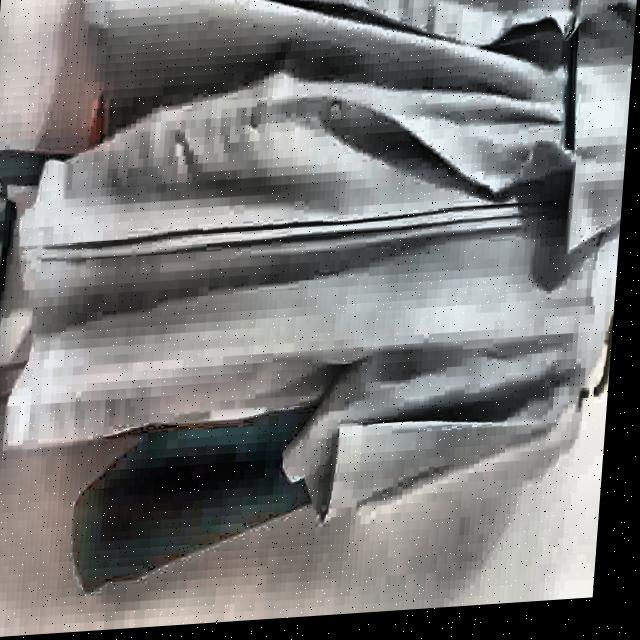clothes: (0, 0, 639, 565)
